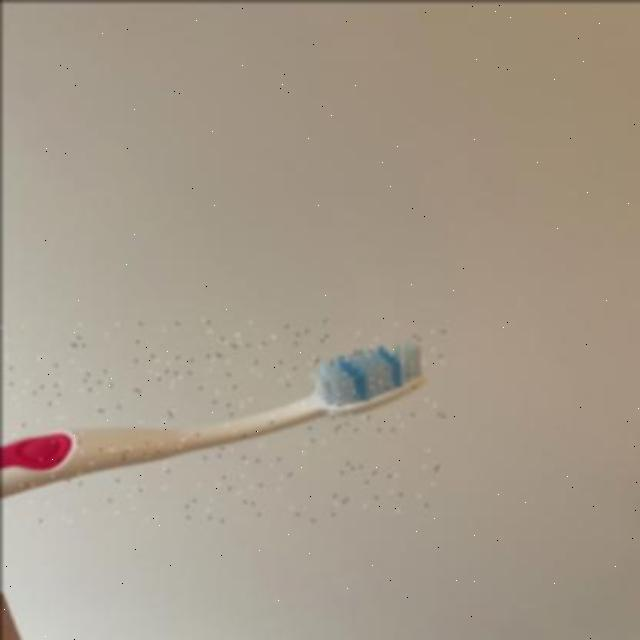toothbrush: (1, 318, 443, 520)
